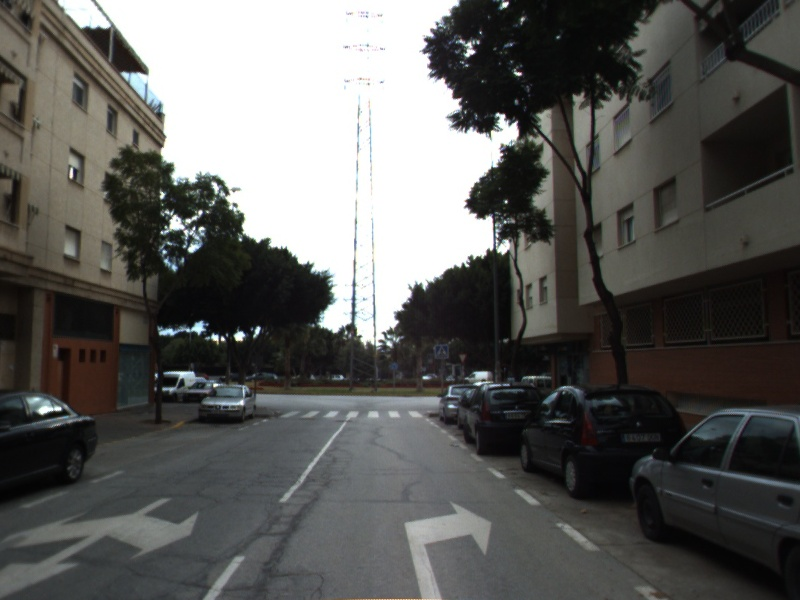RIGHT: (401, 497, 495, 600)
